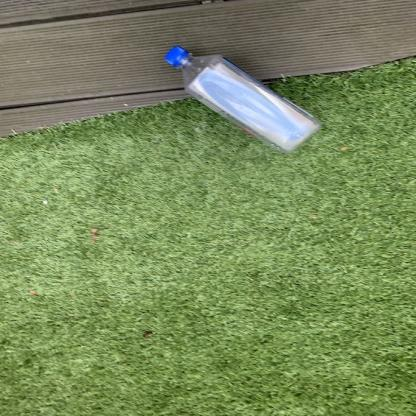trash: (165, 44, 329, 155)
